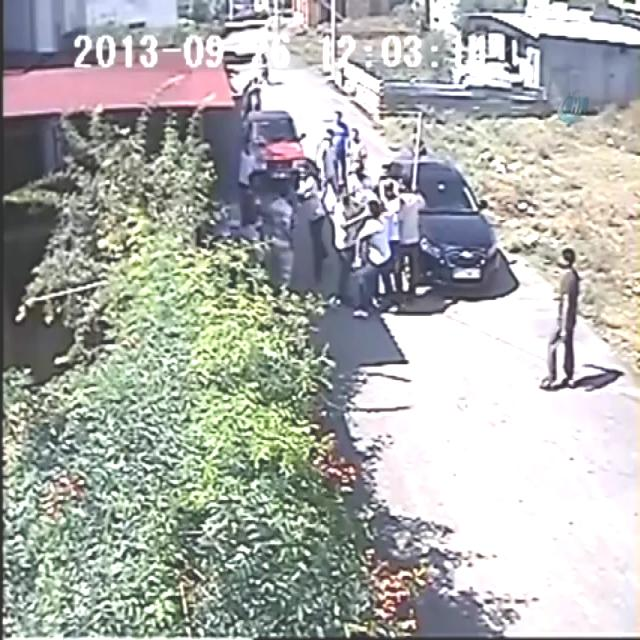fight: (313, 147, 432, 324)
